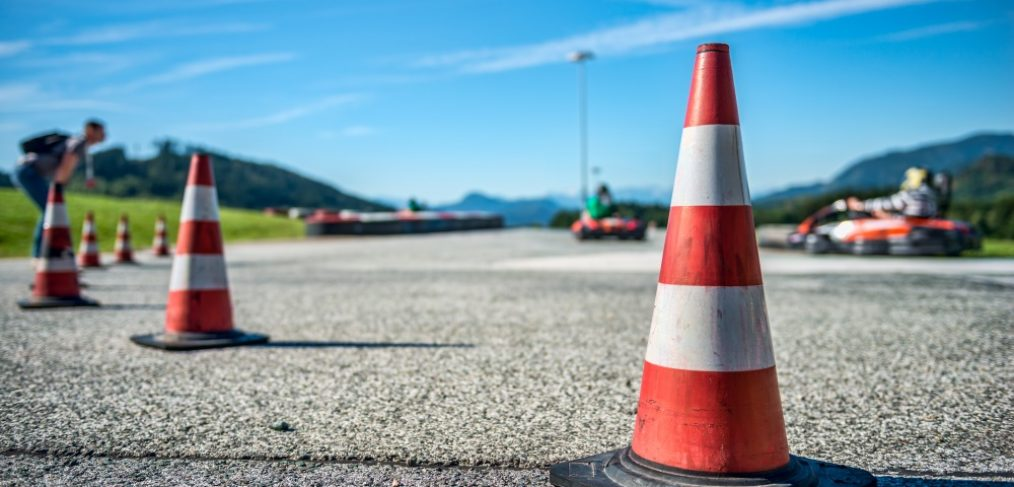cones: (549, 36, 875, 487), (149, 145, 275, 348)
